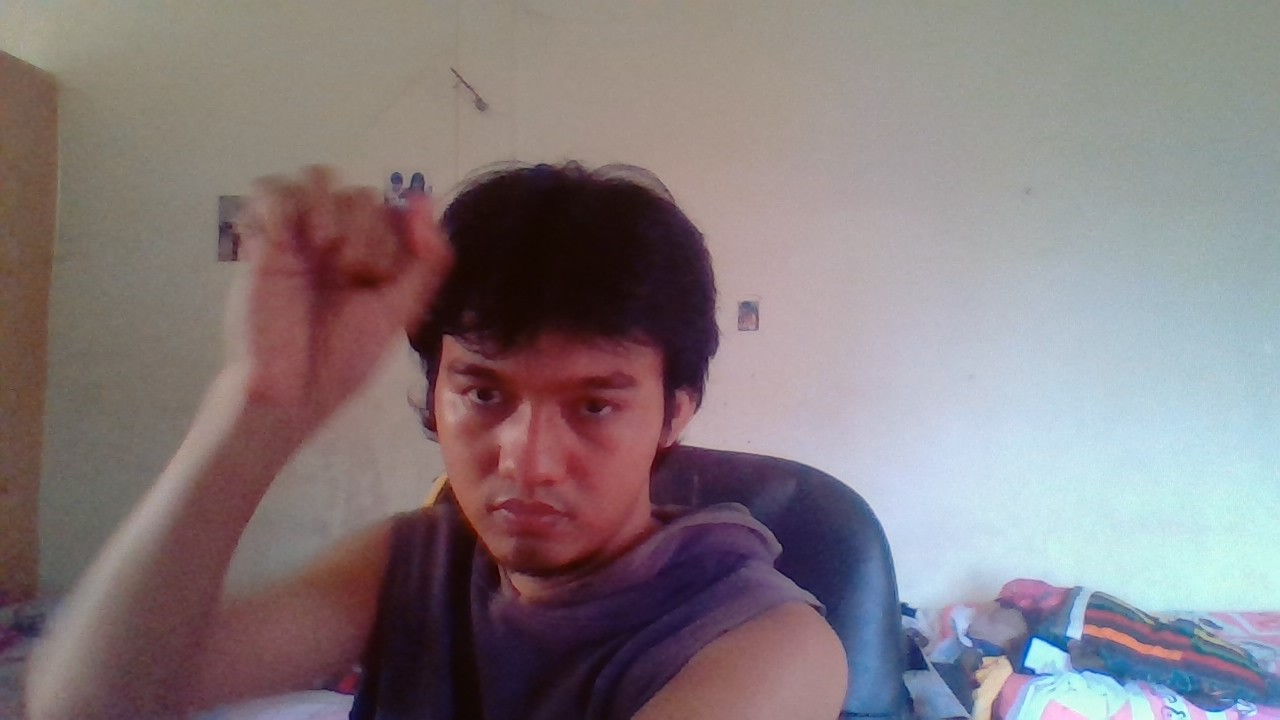A: (196, 126, 464, 424)
